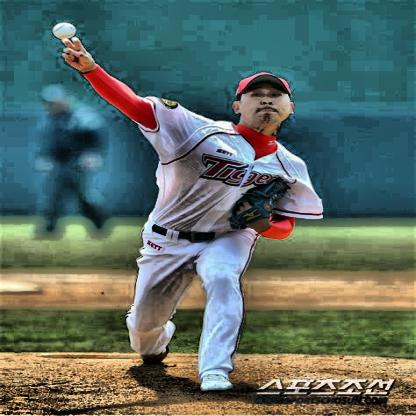baseball: (52, 22, 77, 42)
